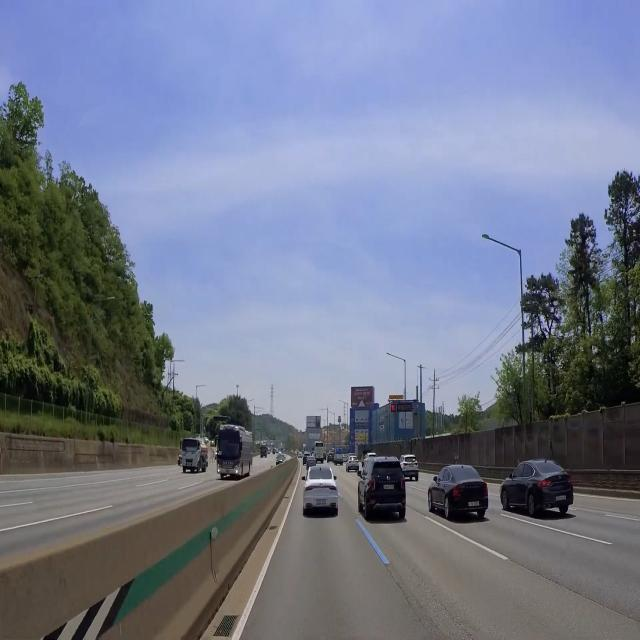car: (312, 497, 333, 510), (467, 495, 484, 510), (380, 482, 399, 494), (554, 493, 570, 505), (183, 459, 196, 469), (221, 468, 233, 478)
